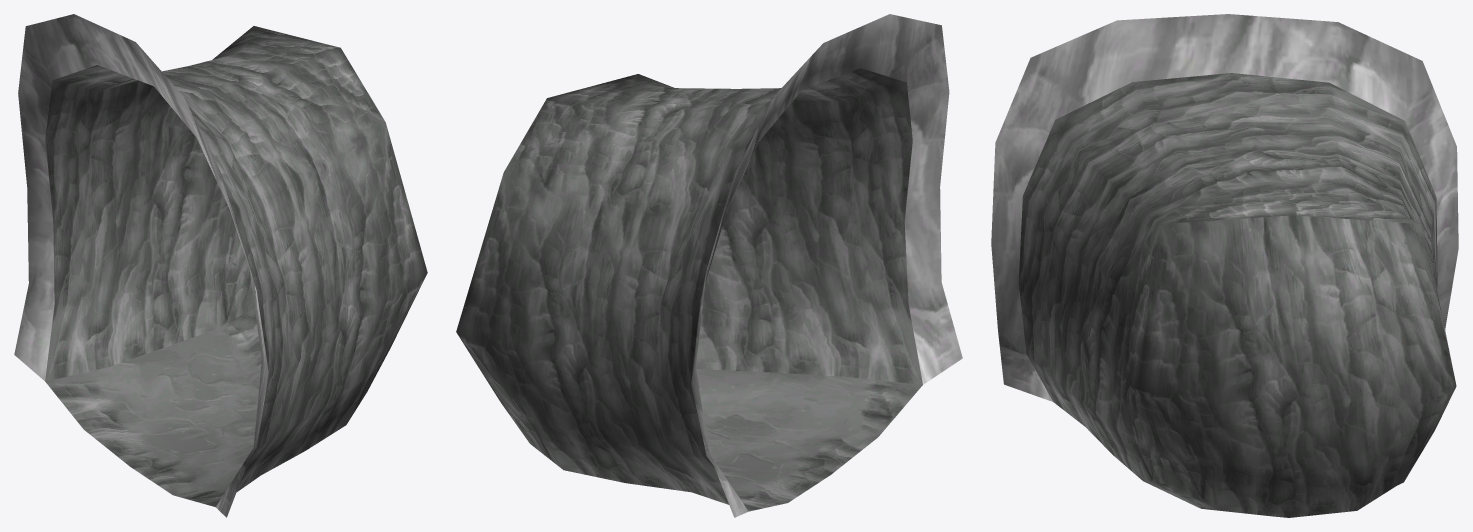
File: SWORDLIGHT20_PS-AREA03_21.fbx
3 renders of one model, left to right at view 1: azimuth 30°, elevation 25°; view 2: azimuth 150°, elevation 25°; view 3: azimuth 270°, elevation 25°, orthographic. The views are drawn at different scales.
Visible parts, largest first — view 1: SWORDLIGHT20_PS-AREA03_21; view 2: SWORDLIGHT20_PS-AREA03_21; view 3: SWORDLIGHT20_PS-AREA03_21.
Boxes of the visible parts, left/top/right/bottom form: SWORDLIGHT20_PS-AREA03_21: left=14, top=14, right=427, bottom=517; SWORDLIGHT20_PS-AREA03_21: left=456, top=14, right=962, bottom=517; SWORDLIGHT20_PS-AREA03_21: left=991, top=14, right=1458, bottom=517.
Bounding box in the file's own units: 50828 × 71055 × 71813.
3 materials, 3 textured.
